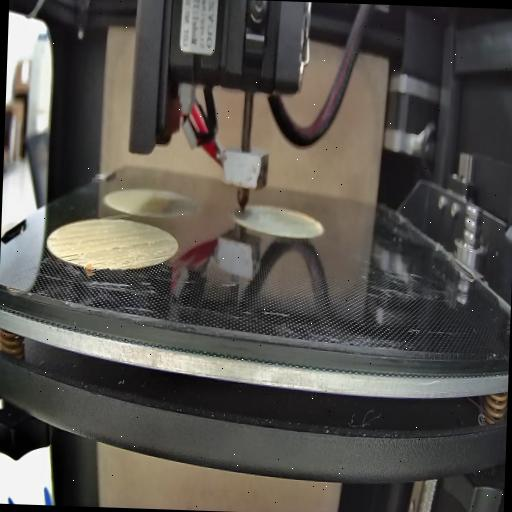under_extrusion: (110, 238, 149, 256), (60, 246, 88, 266), (90, 260, 106, 272), (153, 254, 168, 264)
